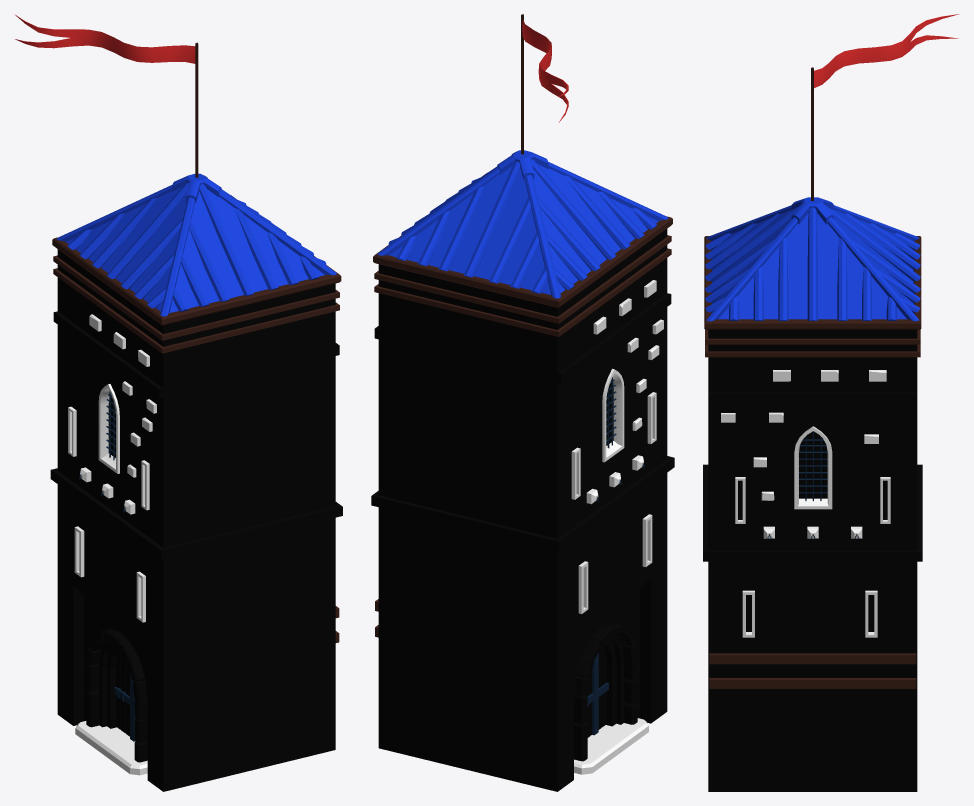
The model's file is civilian_house_19.FBX.
3 renders of one model, left to right at view 1: azimuth 30°, elevation 25°; view 2: azimuth 150°, elevation 25°; view 3: azimuth 270°, elevation 25°, orthographic. The views are drawn at different scales.
Parts seen in each view (by area): view 1: civilian_house_19; view 2: civilian_house_19; view 3: civilian_house_19.
Boxes of the visible parts, <box> form: civilian_house_19: <box>14,14,342,791</box>; civilian_house_19: <box>371,14,674,791</box>; civilian_house_19: <box>703,14,959,791</box>.
Size of the model in its own units: 655 by 2121 by 722.
